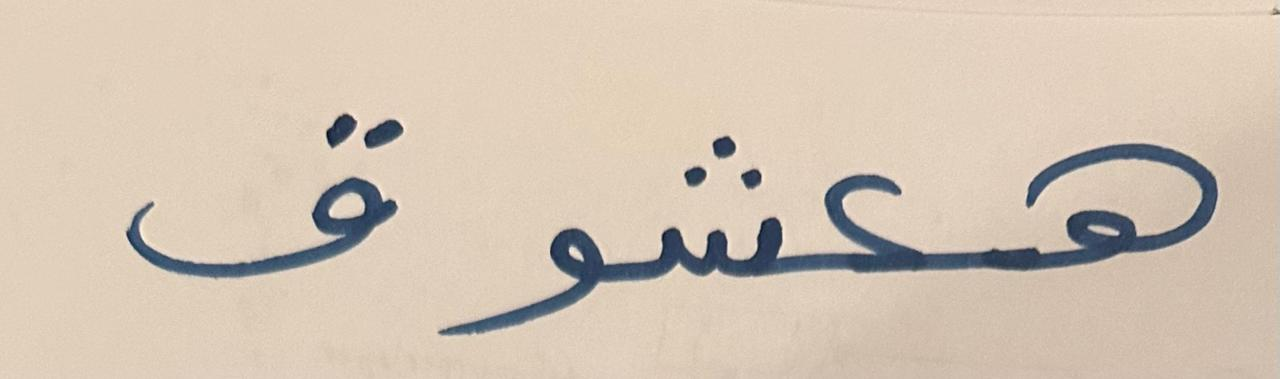ain: (799, 42, 965, 354)
jeem: (970, 36, 1250, 351)
reh: (66, 22, 423, 313)
tah: (616, 42, 795, 352)
yeh: (427, 100, 612, 354)
